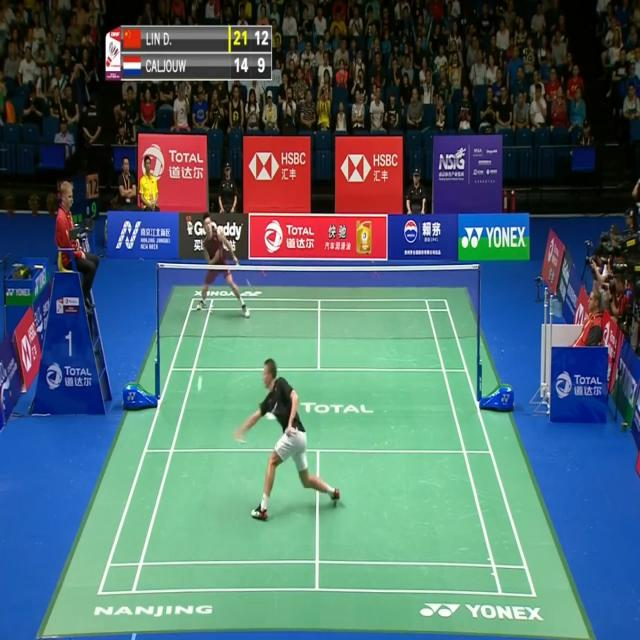Player1: (234, 351, 345, 532)
Player2: (193, 203, 253, 329)
